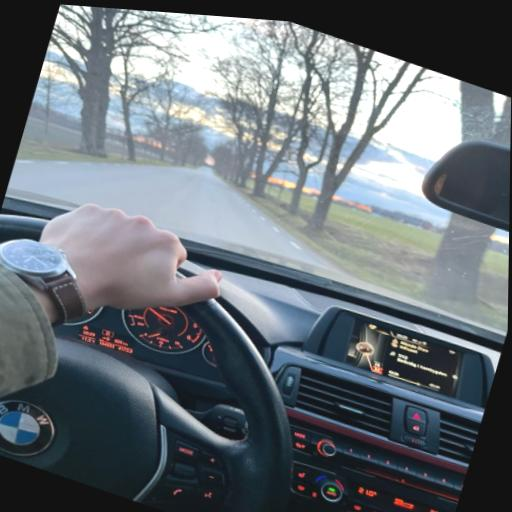Hands-on-the-Wheel: (0, 148, 264, 362)
